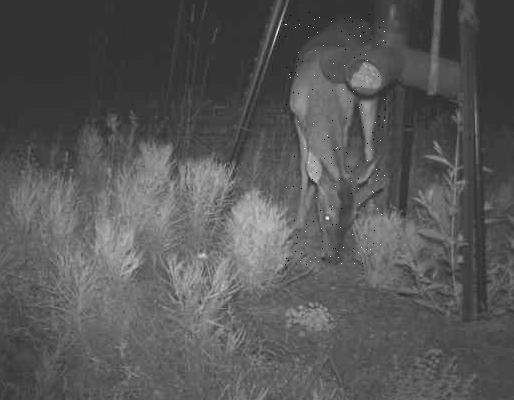Deer: (285, 13, 386, 269)
